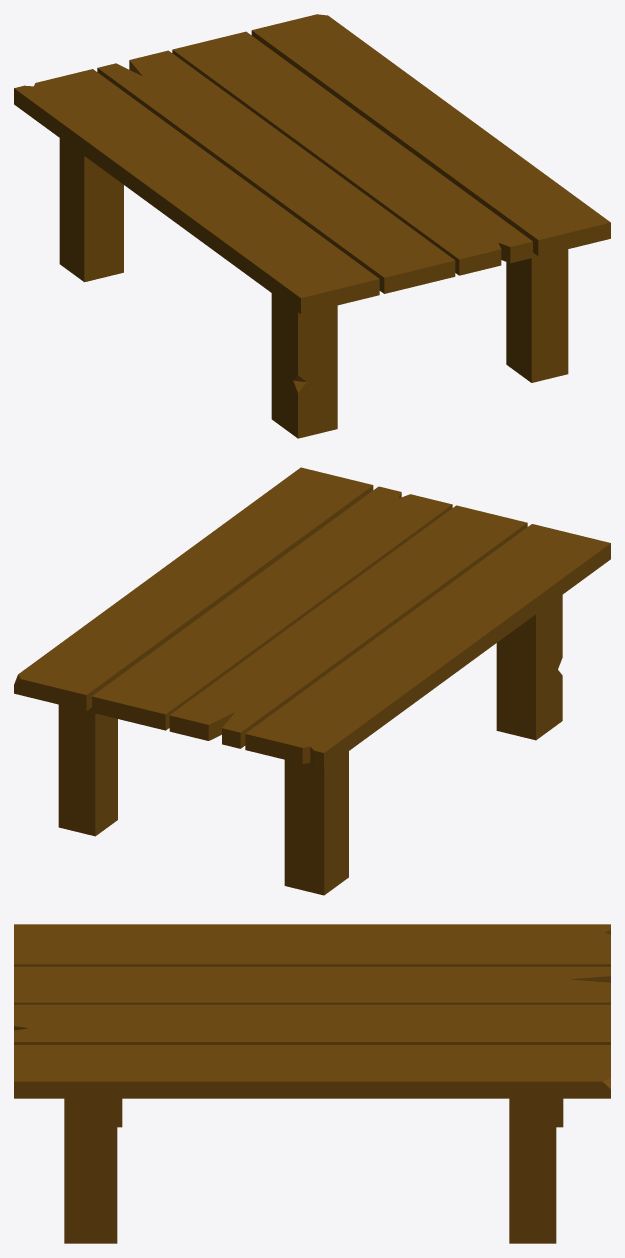
The model's file is table_1.glb.
3 views of the same model, one above another, from view 1: azimuth 30°, elevation 25°; view 2: azimuth 150°, elevation 25°; view 3: azimuth 270°, elevation 25° (orthographic). The views are drawn at different scales.
Parts seen in each view (by area): view 1: table_1; view 2: table_1; view 3: table_1.
Part boxes in pixels (left/top/right/bottom): table_1: left=14, top=14, right=610, bottom=438; table_1: left=14, top=467, right=610, bottom=895; table_1: left=14, top=924, right=610, bottom=1243.
Size of the model in its own units: 1 by 0.5081 by 1.6.
